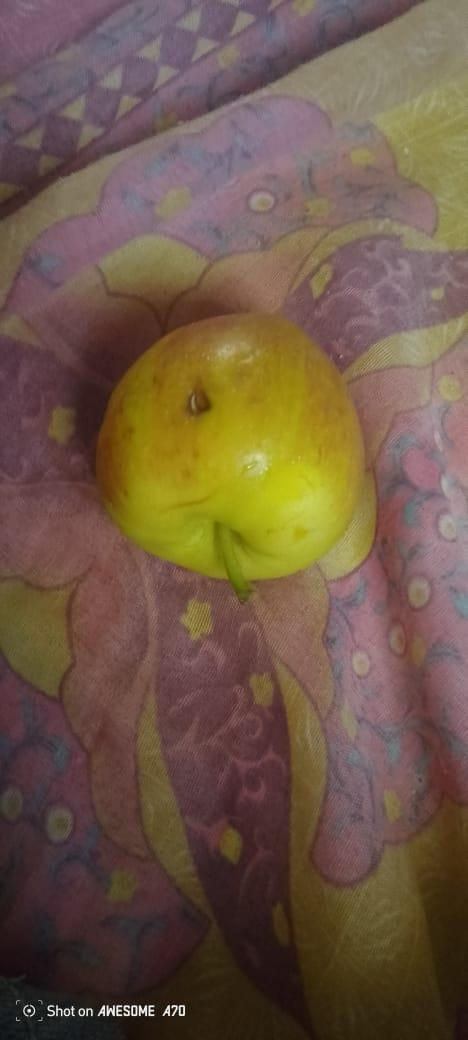non-mango: (93, 311, 369, 576)
